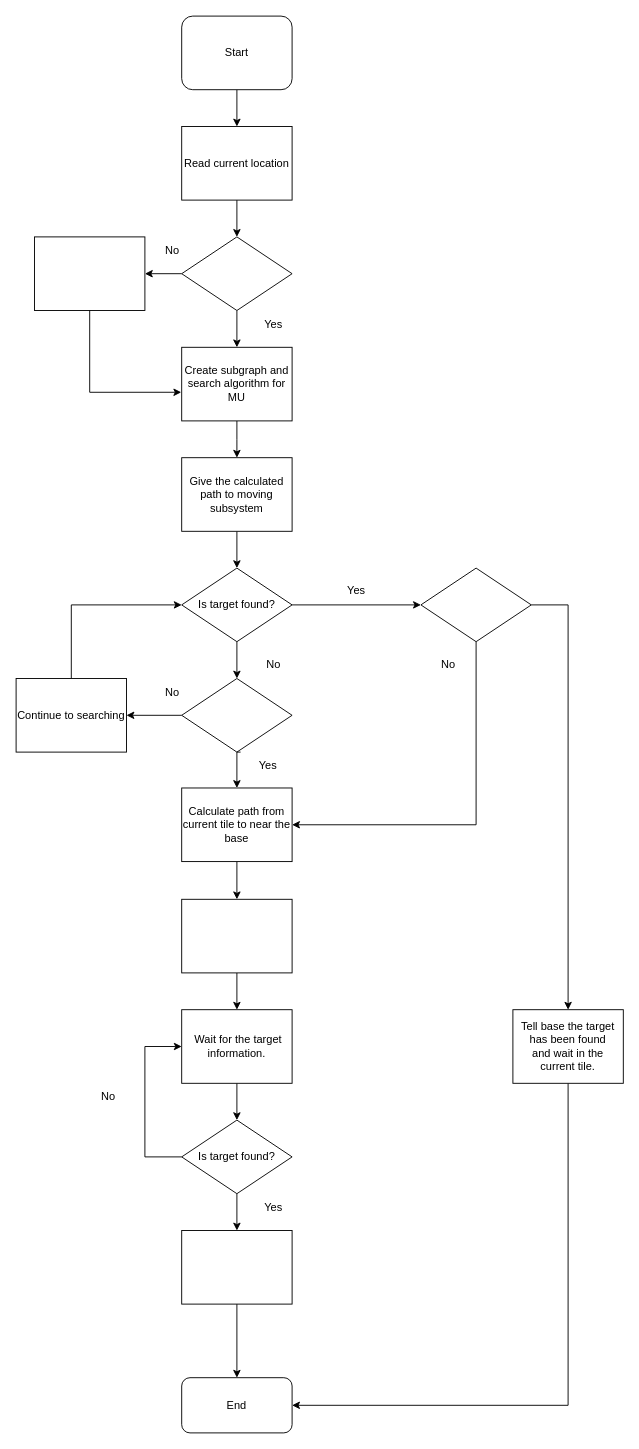
The diagram is 639 pixels wide and 1449 high, and some of its shapes have lost their labels. The centre of each missing label's shape, as x and y in pixels:
Calculate the shortest path to the target location: the point at 236,1267
calculatePath (curr_loc,initial_loc) and go initial position: the point at 89,273
current location == initial location: the point at 236,273
Go to the base and wait for the target information.: the point at 236,935
Have all tiles been visited?: the point at 236,715
Is MU in search region?: the point at 475,604
